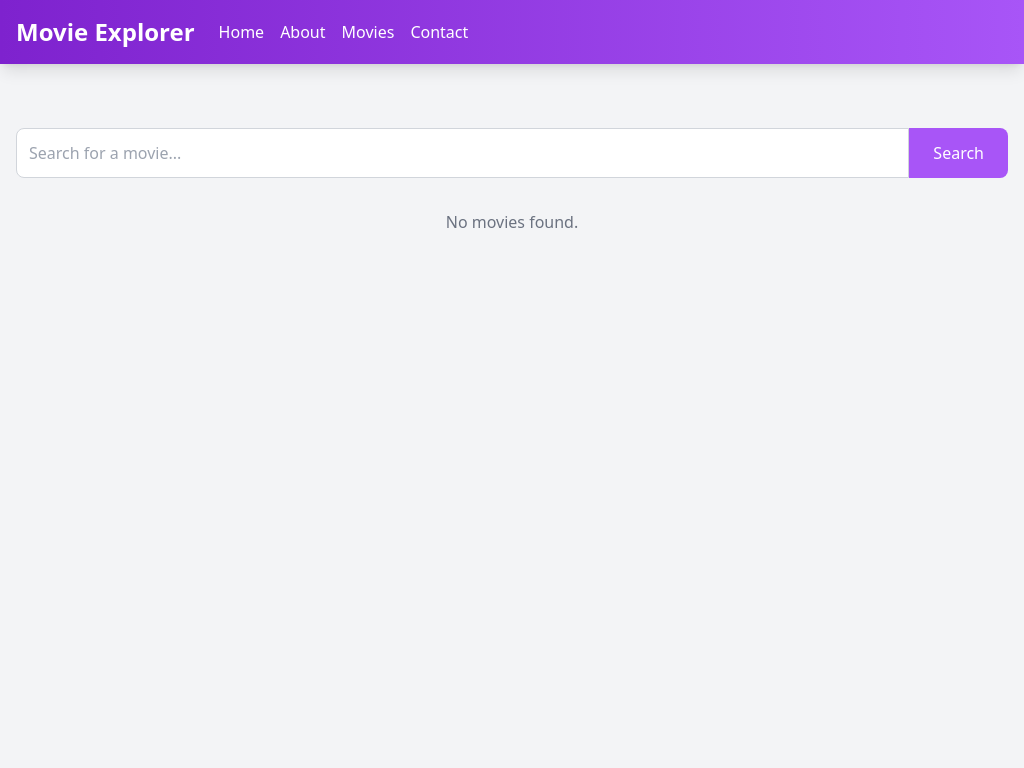
Test: MovieSearchPage Integration Test › displays a default image if no poster is available for the movie
Type "Inception" into the field with placeholder "Search for a movie...".
click(463, 153); type("Inception")  # box [16,128,909,178]
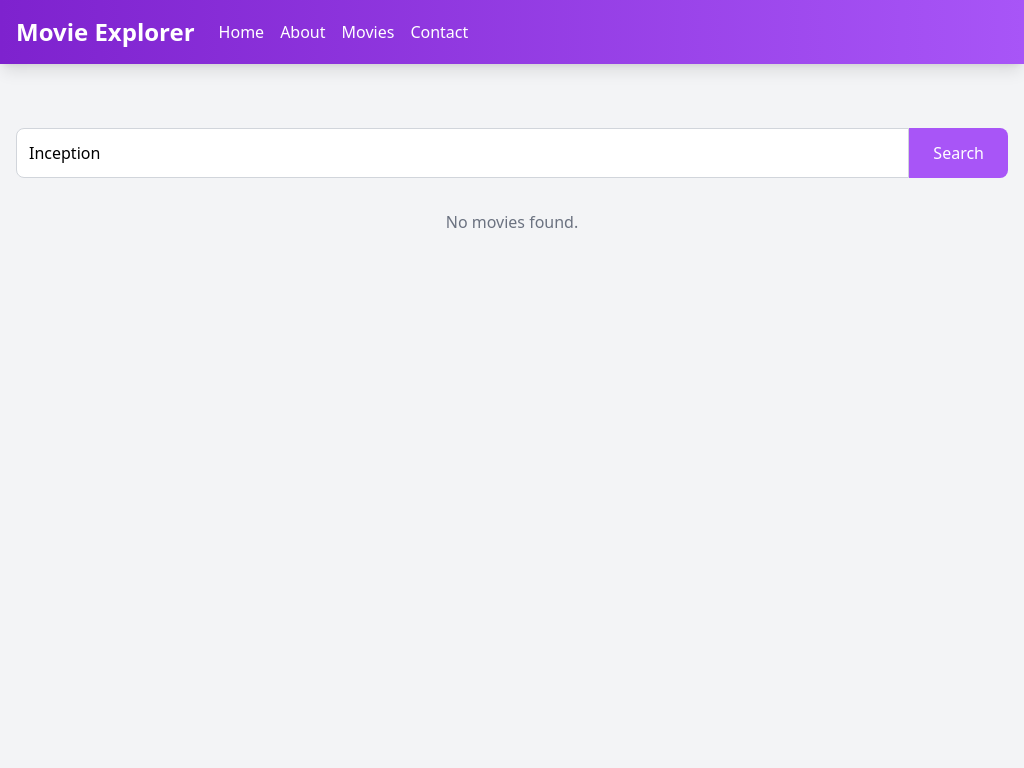
Click the button "Search".
click(959, 153)  # box [909,128,1008,178]
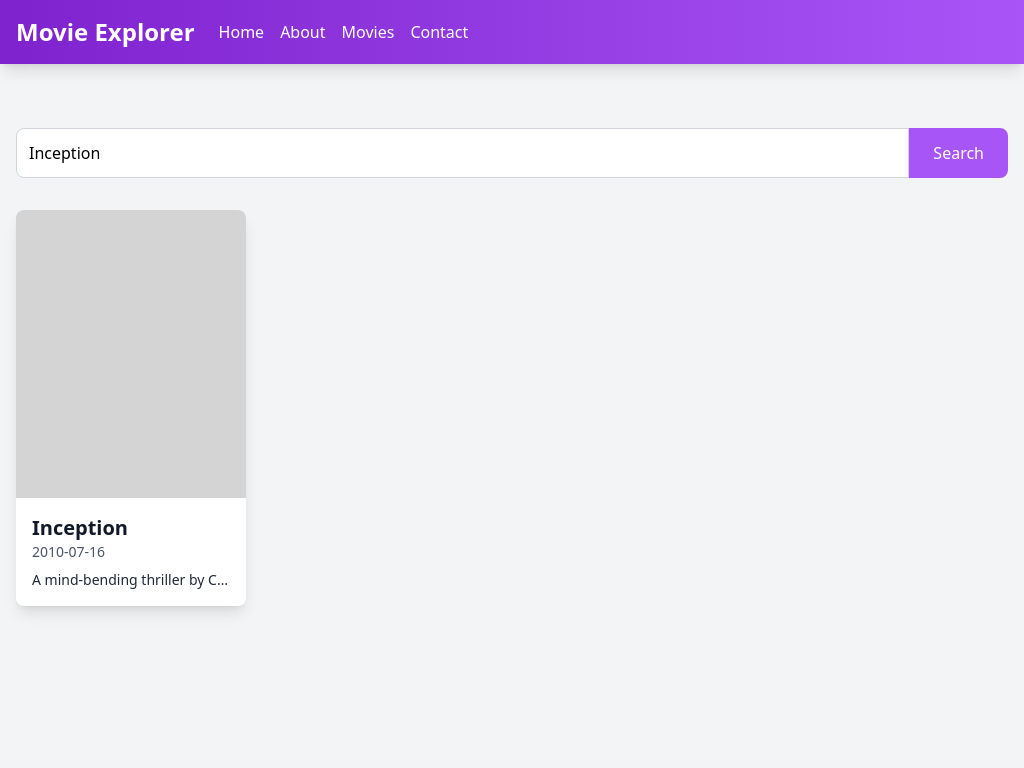
Now the heading "Inception" is shown, box [32,514,128,541]
